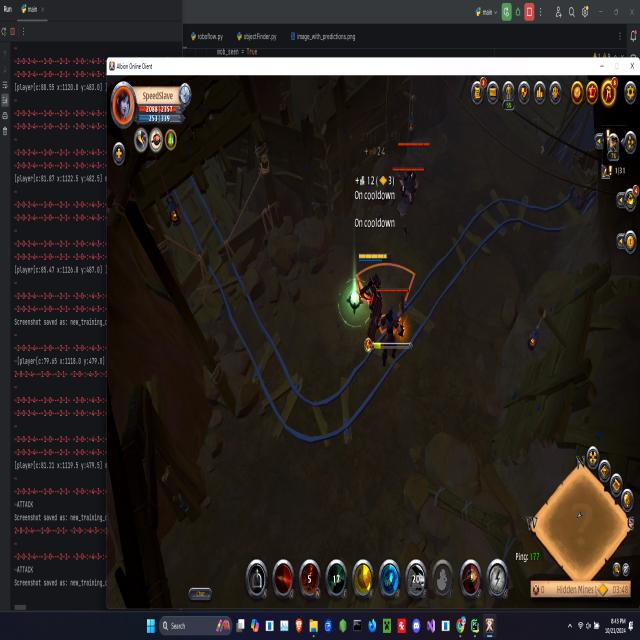ore: (374, 284, 412, 369), (389, 163, 426, 231), (396, 137, 432, 200)
red: (354, 252, 391, 328)
silver: (355, 262, 417, 336)
